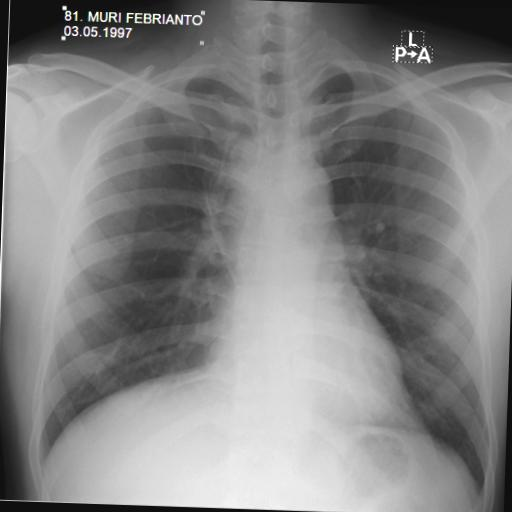normal: (34, 40, 508, 506)
